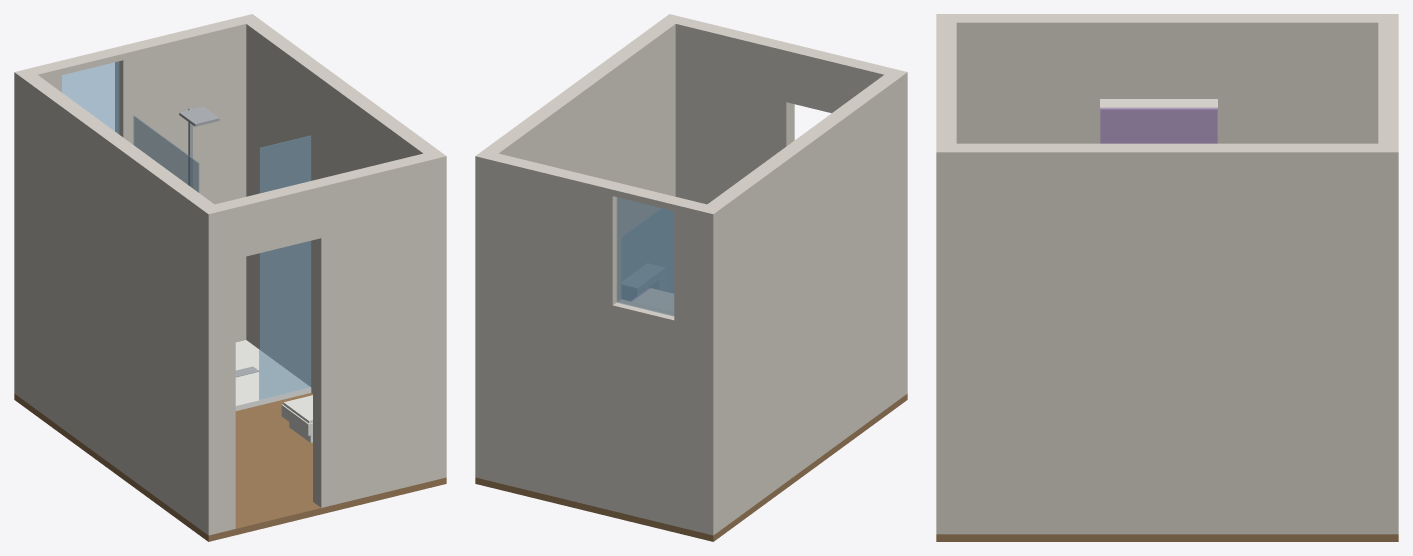
File: compact-bathroom.glb
3 views of the same model, side by side, from view 1: azimuth 30°, elevation 25°; view 2: azimuth 150°, elevation 25°; view 3: azimuth 270°, elevation 25° (orthographic). The views are drawn at different scales.
Visible parts, largest first — view 1: wall_7, wall_2, wall_8, wall_6, wall_0, floor, shower_3, wall_1, wall_3, shower_0, glass_0, shower_2 (+3 smaller); view 2: wall_7, wall_6, wall_8, wall_2, wall_3, wall_4, glass_0, wall_1, shower_2, wall_0, floor, wall_5 (+2 smaller); view 3: wall_8, wall_7, wall_6, wall_2, mirror_cab_1, floor, mirror_cab_0, wall_1, wall_5.
Boxes of the visible parts, <box> form: wall_7: <box>22,75,214,528</box>; wall_2: <box>313,150,446,507</box>; wall_8: <box>246,20,437,393</box>; wall_6: <box>115,14,260,342</box>; wall_0: <box>200,201,235,535</box>; floor: <box>14,393,446,541</box>; shower_3: <box>259,135,311,399</box>; wall_1: <box>227,180,321,258</box>; wall_3: <box>14,62,61,399</box>; shower_0: <box>235,340,311,410</box>; glass_0: <box>62,61,119,134</box>; shower_2: <box>133,115,199,192</box>; wall_7: <box>707,75,899,528</box>; wall_6: <box>475,150,620,510</box>; wall_8: <box>484,20,675,292</box>; wall_2: <box>661,14,794,204</box>; wall_3: <box>674,198,721,535</box>; wall_4: <box>612,299,674,525</box>; glass_0: <box>616,197,674,316</box>; wall_1: <box>786,44,880,113</box>; shower_2: <box>621,208,673,300</box>; wall_0: <box>872,65,907,399</box>; floor: <box>475,393,907,541</box>; wall_5: <box>612,183,682,210</box>; wall_8: <box>956,143,1378,534</box>; wall_7: <box>956,14,1378,143</box>; wall_6: <box>1378,72,1398,534</box>; wall_2: <box>936,79,956,534</box>; mirror_cab_1: <box>1100,108,1217,143</box>; floor: <box>936,534,1398,541</box>; mirror_cab_0: <box>1100,99,1217,143</box>; wall_1: <box>936,29,956,79</box>; wall_5: <box>1378,36,1398,72</box>.
Bounding box in the file's own units: 1.94 × 2.55 × 2.74.
